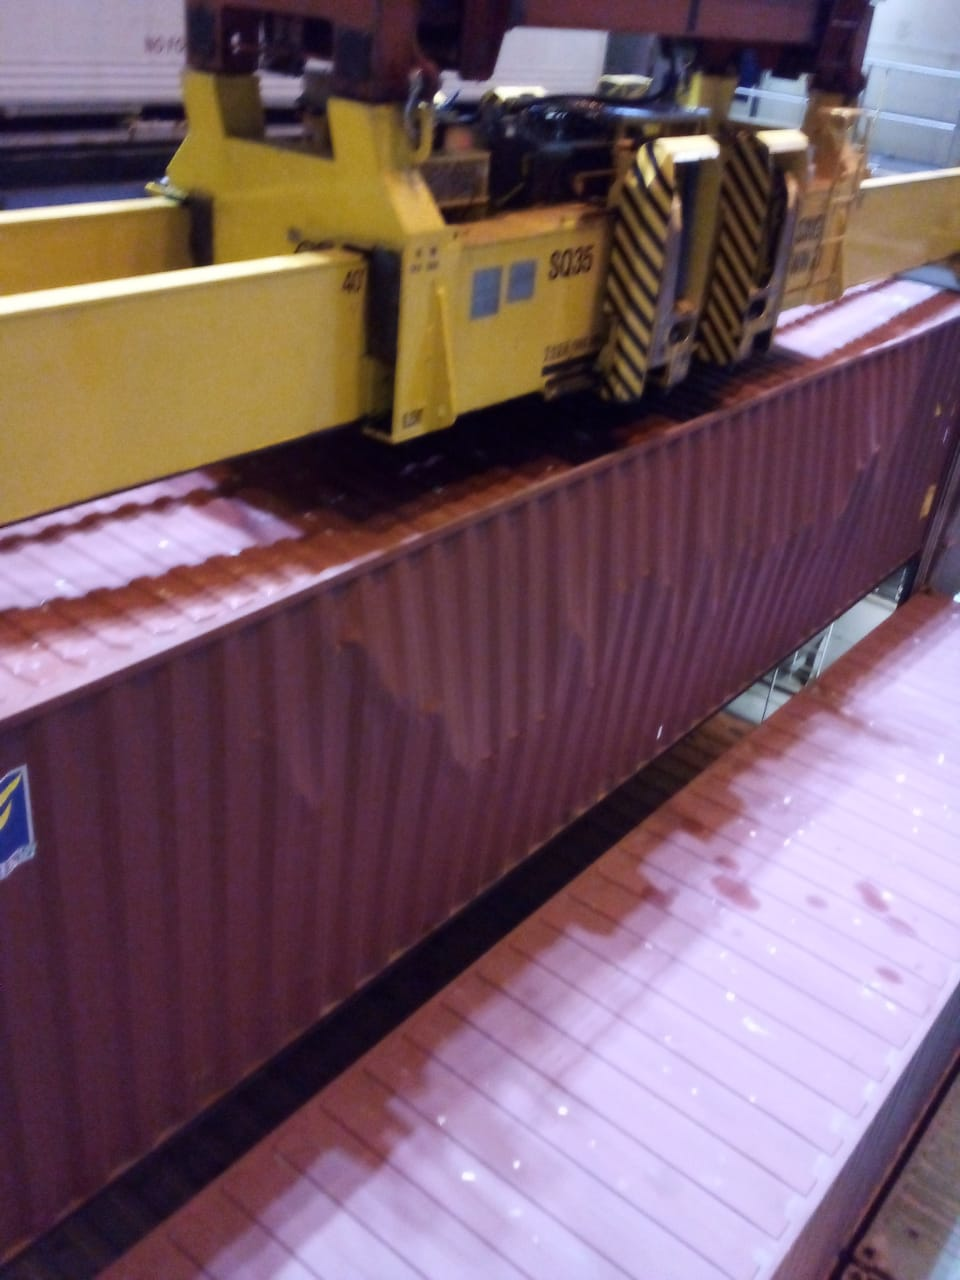bulged: (277, 435, 896, 804)
